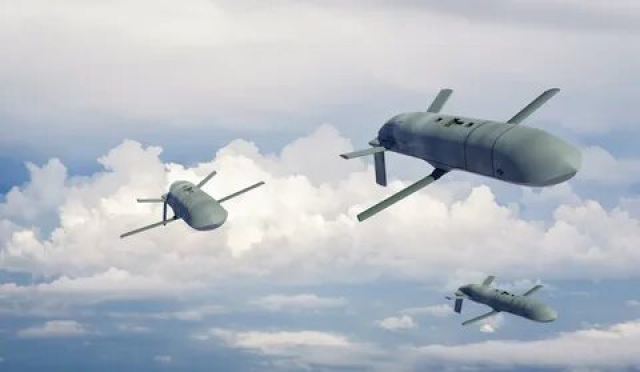military drone: (339, 88, 581, 222), (120, 170, 265, 237), (444, 275, 558, 325)
